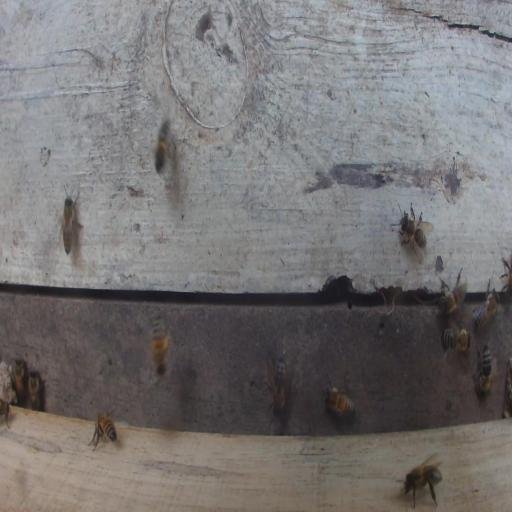nonpollenbee: (390, 202, 431, 262), (402, 454, 443, 509), (61, 184, 83, 256), (265, 352, 288, 417), (436, 268, 467, 316), (472, 278, 500, 330), (323, 379, 355, 424), (89, 411, 118, 451), (473, 341, 492, 396), (155, 118, 171, 174), (442, 327, 472, 356), (13, 355, 28, 402), (28, 367, 42, 410), (499, 254, 512, 294), (0, 397, 11, 429)
pollenbee: (150, 309, 170, 377)
